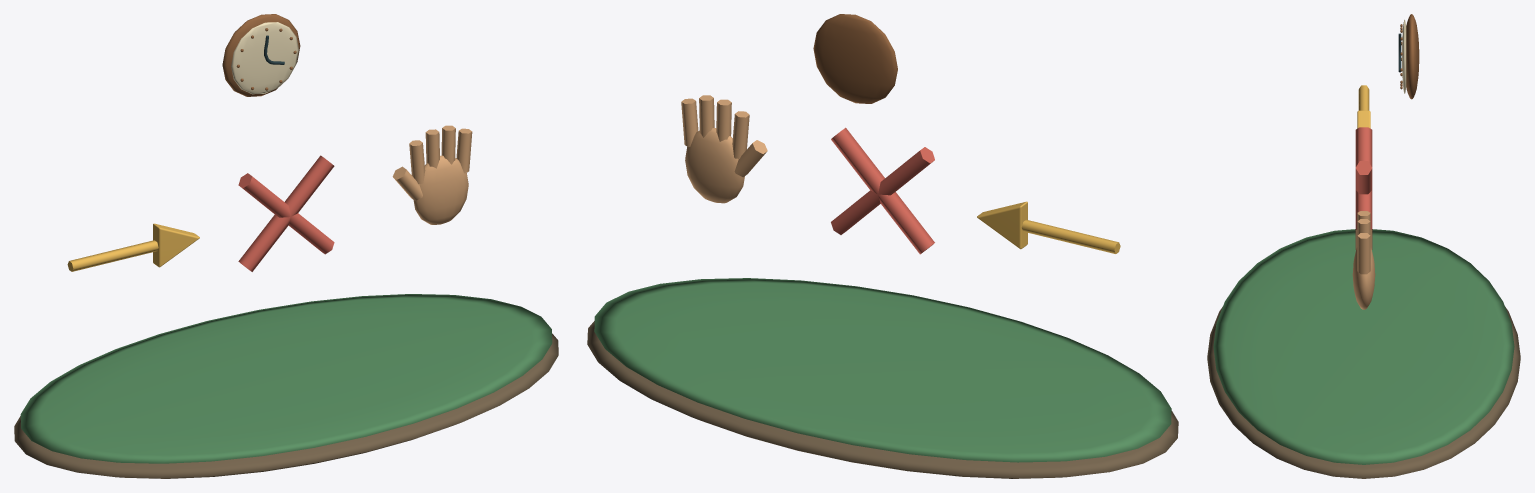
The model's file is complete-third-arrival-cannot-reach.glb.
3 views of the same model, side by side, from view 1: azimuth 30°, elevation 25°; view 2: azimuth 150°, elevation 25°; view 3: azimuth 270°, elevation 25° (orthographic). The views are drawn at different scales.
Parts seen in each view (by area): view 1: complete-third-arrival-cannot-reach_surface_01, complete-third-arrival-cannot-reach_surface_00, complete-third-arrival-cannot-reach_surface_04, complete-third-arrival-cannot-reach_surface_03, complete-third-arrival-cannot-reach_surface_06, complete-third-arrival-cannot-reach_surface_02, complete-third-arrival-cannot-reach_surface_05; view 2: complete-third-arrival-cannot-reach_surface_01, complete-third-arrival-cannot-reach_surface_00, complete-third-arrival-cannot-reach_surface_04, complete-third-arrival-cannot-reach_surface_05, complete-third-arrival-cannot-reach_surface_03, complete-third-arrival-cannot-reach_surface_02; view 3: complete-third-arrival-cannot-reach_surface_01, complete-third-arrival-cannot-reach_surface_00, complete-third-arrival-cannot-reach_surface_04, complete-third-arrival-cannot-reach_surface_03, complete-third-arrival-cannot-reach_surface_05, complete-third-arrival-cannot-reach_surface_02.
Boxes of the visible parts, x1,y1,x2,y2 form: complete-third-arrival-cannot-reach_surface_01: [20, 294, 552, 463]; complete-third-arrival-cannot-reach_surface_00: [14, 333, 558, 478]; complete-third-arrival-cannot-reach_surface_04: [392, 125, 472, 224]; complete-third-arrival-cannot-reach_surface_03: [238, 155, 334, 271]; complete-third-arrival-cannot-reach_surface_06: [231, 22, 298, 94]; complete-third-arrival-cannot-reach_surface_02: [67, 223, 199, 271]; complete-third-arrival-cannot-reach_surface_05: [222, 14, 300, 96]; complete-third-arrival-cannot-reach_surface_01: [594, 278, 1171, 462]; complete-third-arrival-cannot-reach_surface_00: [587, 321, 1178, 478]; complete-third-arrival-cannot-reach_surface_04: [681, 95, 767, 203]; complete-third-arrival-cannot-reach_surface_05: [813, 14, 897, 103]; complete-third-arrival-cannot-reach_surface_03: [831, 127, 934, 254]; complete-third-arrival-cannot-reach_surface_02: [977, 201, 1120, 253]; complete-third-arrival-cannot-reach_surface_01: [1213, 229, 1514, 464]; complete-third-arrival-cannot-reach_surface_00: [1207, 307, 1520, 478]; complete-third-arrival-cannot-reach_surface_04: [1352, 211, 1375, 309]; complete-third-arrival-cannot-reach_surface_03: [1355, 127, 1372, 249]; complete-third-arrival-cannot-reach_surface_05: [1400, 14, 1419, 99]; complete-third-arrival-cannot-reach_surface_02: [1357, 85, 1370, 128].
Size of the model in its own units: 4.56 by 3.12 by 2.5.
